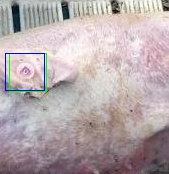text: (9, 53, 46, 91)
